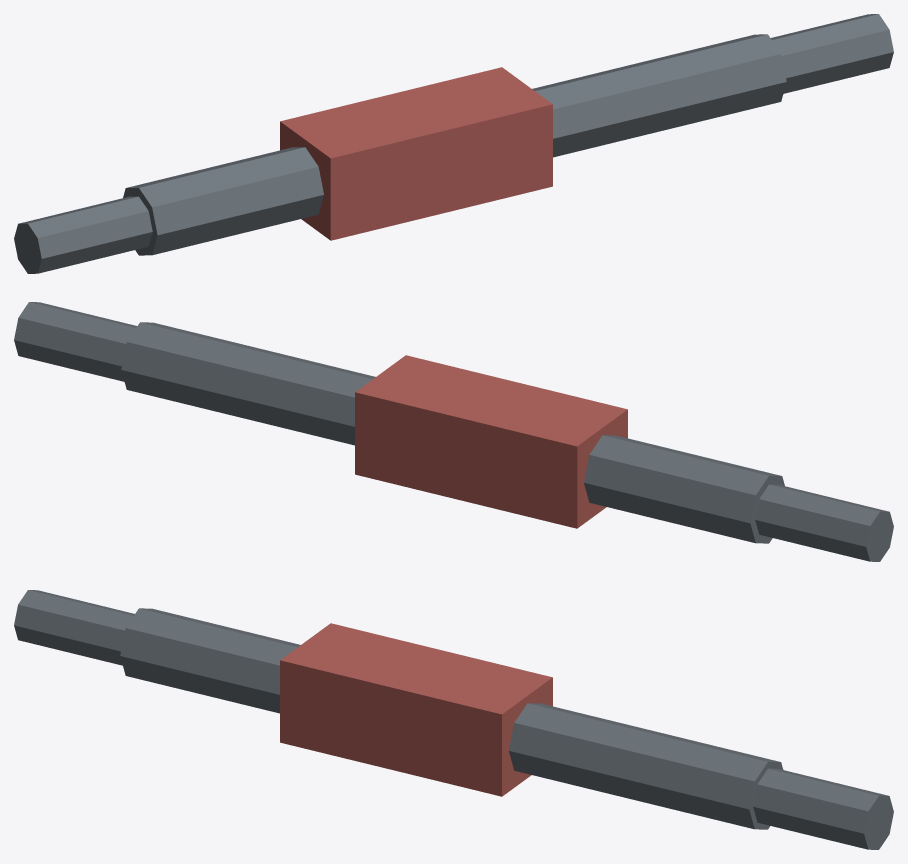
File: crowbar.glb
The picture shows the model from 3 angles, top to bottom: view 1: azimuth 30°, elevation 25°; view 2: azimuth 150°, elevation 25°; view 3: azimuth 330°, elevation 25°; orthographic projection.
Parts seen in each view (by area): view 1: 03_grip, 00_bar, 02_claw, 01_bent_pry_tip; view 2: 03_grip, 00_bar, 02_claw, 01_bent_pry_tip; view 3: 03_grip, 00_bar, 01_bent_pry_tip, 02_claw.
Part boxes in pixels (left/top/right/bottom): 03_grip: left=280, top=67, right=552, bottom=240; 00_bar: left=123, top=34, right=786, bottom=255; 02_claw: left=14, top=196, right=152, bottom=273; 01_bent_pry_tip: left=771, top=14, right=893, bottom=93; 03_grip: left=355, top=355, right=627, bottom=528; 00_bar: left=121, top=322, right=784, bottom=543; 02_claw: left=755, top=484, right=893, bottom=561; 01_bent_pry_tip: left=14, top=302, right=136, bottom=381; 03_grip: left=280, top=623, right=552, bottom=796; 00_bar: left=120, top=608, right=783, bottom=829; 01_bent_pry_tip: left=753, top=768, right=893, bottom=849; 02_claw: left=14, top=590, right=134, bottom=665.
Size of the model in its own units: 0.92 by 0.085 by 0.095.
